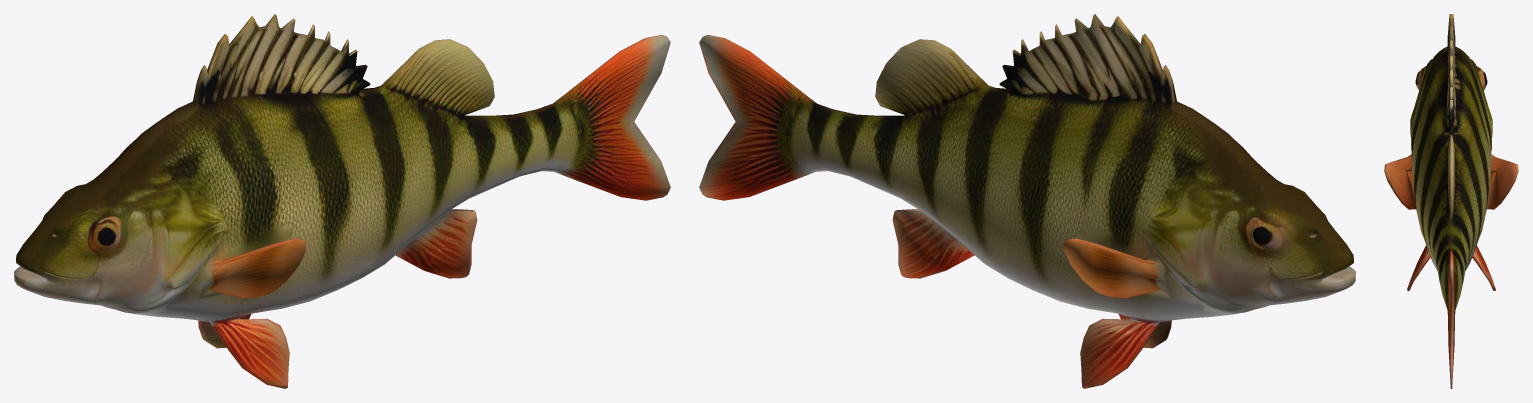
The model's file is perch.glb.
3 renders of one model, left to right at view 1: azimuth 30°, elevation 25°; view 2: azimuth 150°, elevation 25°; view 3: azimuth 270°, elevation 25°, orthographic. The views are drawn at different scales.
Visible parts, largest first — view 1: texture_pbr_v128; view 2: texture_pbr_v128; view 3: texture_pbr_v128.
Part boxes in pixels (x1,y1,x2,y2): texture_pbr_v128: (14, 14, 670, 388); texture_pbr_v128: (699, 14, 1355, 388); texture_pbr_v128: (1384, 14, 1518, 388).
Size of the model in its own units: 0.2309 by 0.1191 by 0.0529.
1 material, 1 textured.
